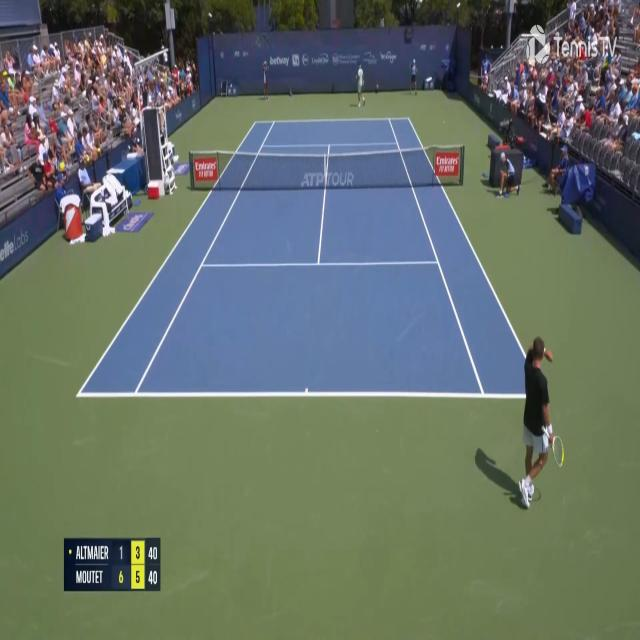tennis-player: (513, 332, 565, 507), (355, 64, 366, 108)
